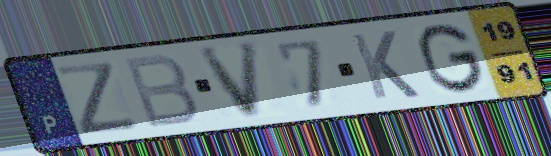7: (273, 37, 328, 111)
B: (119, 52, 202, 132)
G: (416, 20, 489, 96)
K: (346, 28, 424, 102)
V: (194, 38, 263, 123)
Z: (52, 59, 145, 138)
